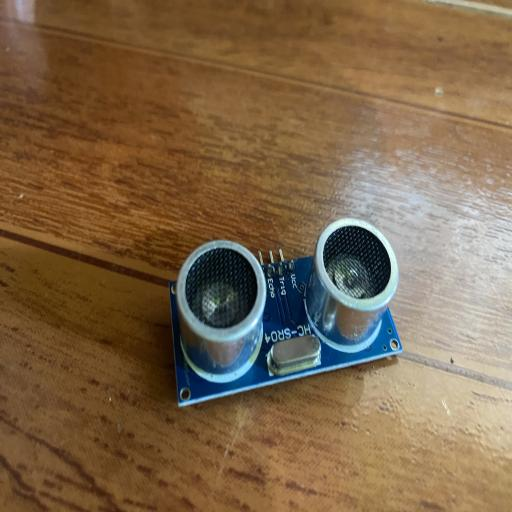Ultrasonic Sensor: (167, 216, 404, 407)
